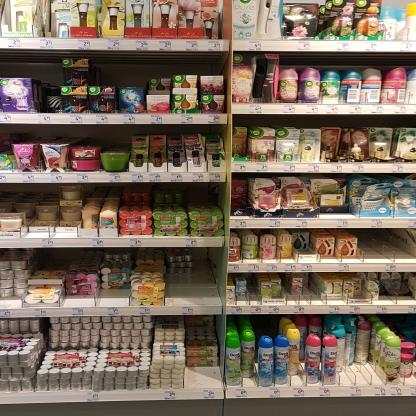empty_space: (359, 229, 414, 271), (166, 274, 221, 314), (344, 365, 381, 397), (185, 367, 221, 399)
